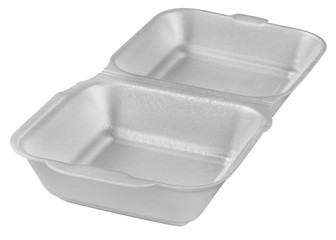styrofoam: (10, 8, 327, 227)
